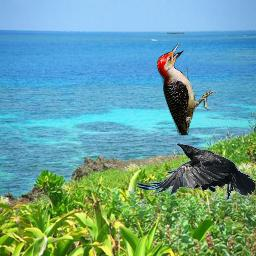Crow: (133, 142, 255, 202)
Woodpecker: (157, 43, 217, 135)
